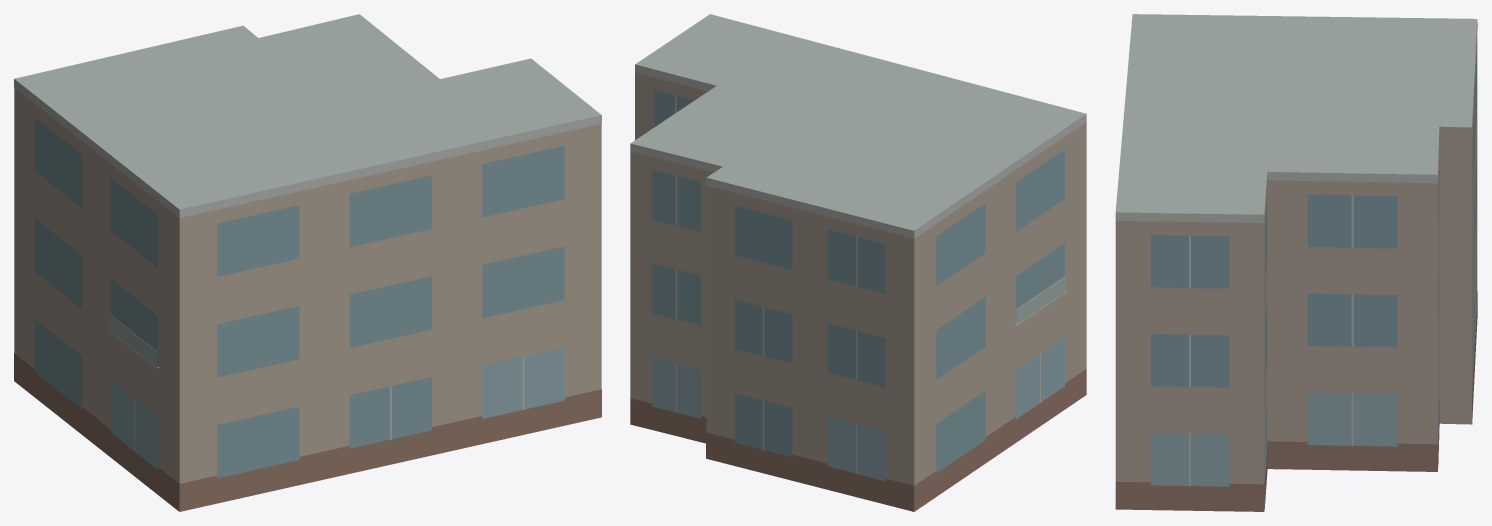
Rendered from survey-upis-32668804.glb.
3 views of the same model, side by side, from view 1: azimuth 30°, elevation 25°; view 2: azimuth 150°, elevation 25°; view 3: azimuth 270°, elevation 25° (orthographic). The views are drawn at different scales.
Parts seen in each view (by area): view 1: survey-upis-32668804.tmp; view 2: survey-upis-32668804.tmp; view 3: survey-upis-32668804.tmp.
Part boxes in pixels (x1=…): survey-upis-32668804.tmp: x1=14, y1=14, x2=601, y2=511; survey-upis-32668804.tmp: x1=630, y1=14, x2=1086, y2=511; survey-upis-32668804.tmp: x1=1115, y1=14, x2=1477, y2=511.
Size of the model in its own units: 12.48 by 8.6 by 9.51.
